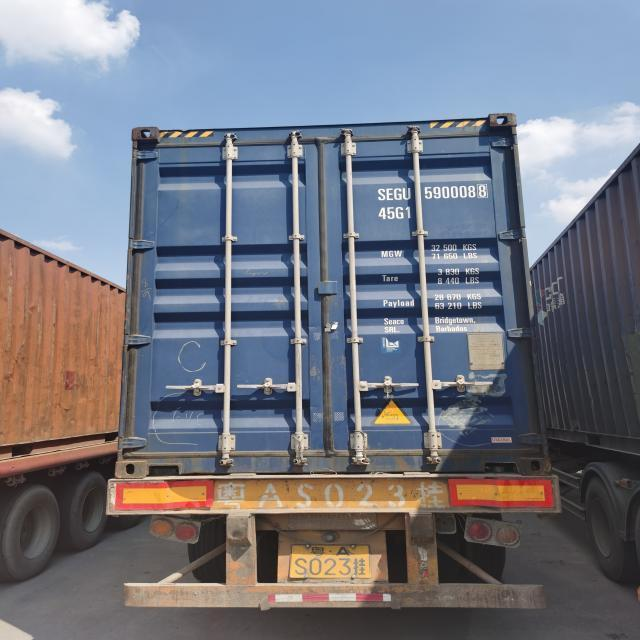ISO: (378, 205, 409, 222)
container_number: (378, 184, 493, 203)
